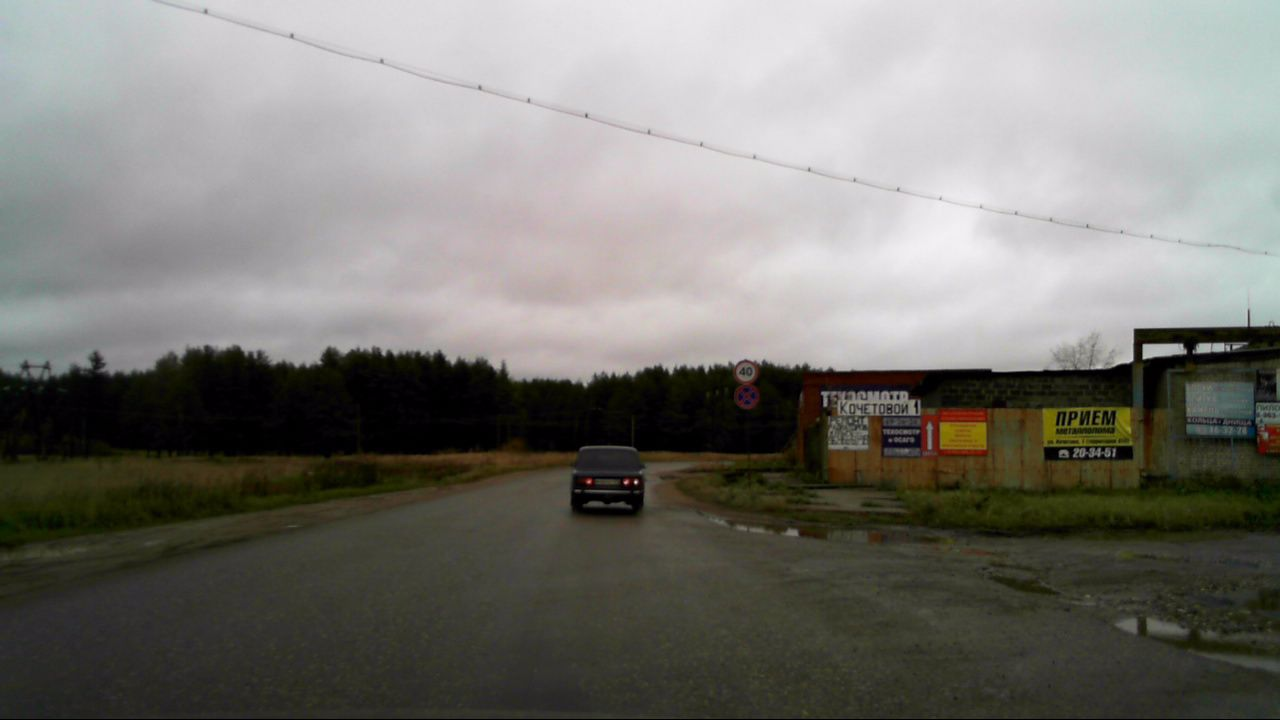No Parking: (734, 383, 760, 410)
